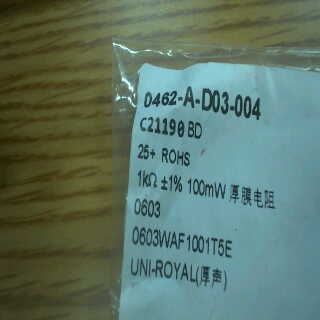1kR: (135, 168, 158, 189)
